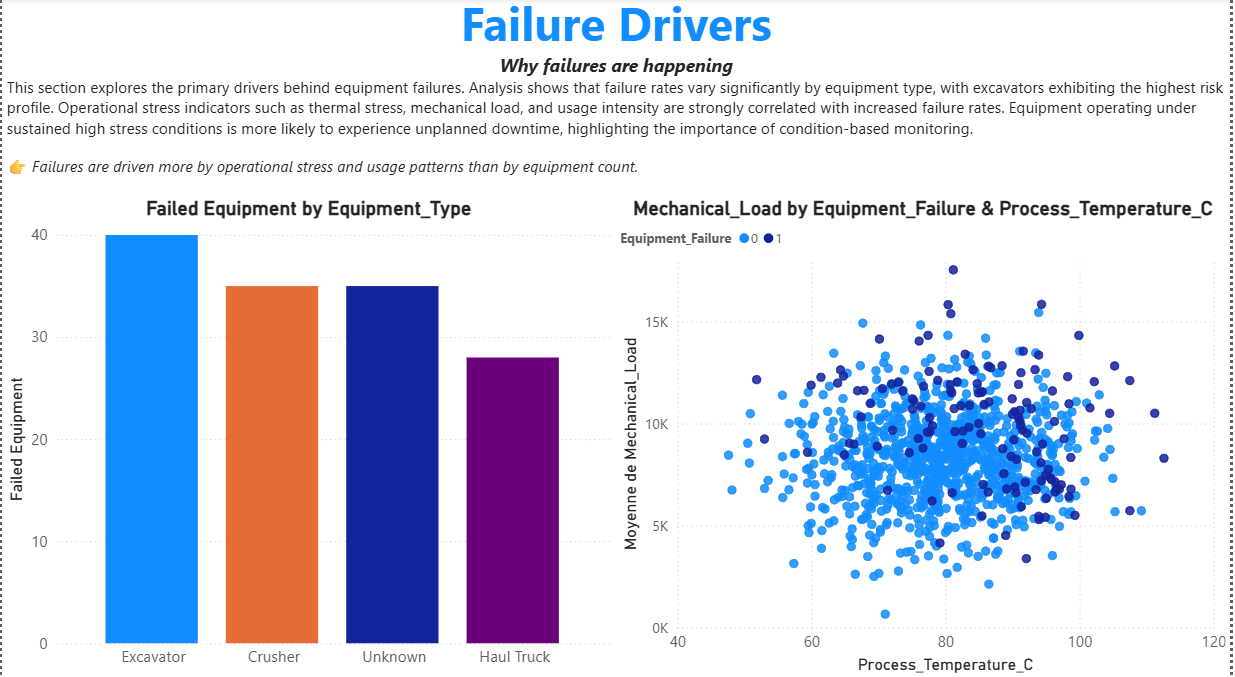

What the dashboard file says about the page in this screenshot:
{"tool":"powerbi","page":{"name":"Page 2","canvas":[1280,720],"ordinal":1},"visuals":[{"type":"scatterChart","title":"Mechanical_Load by Equipment_Failure & Process_Temperature_C","fields":{"Series":["Sheet1 (2).Equipment_Failure"],"Y":["Avg(Sheet1 (2).Mechanical_Load)"],"X":["Sheet1 (2).Process_Temperature_C"]},"box":[639.1,218.8,640.6,501.6],"z":0},{"type":"columnChart","title":"Failed Equipment by Equipment_Type","fields":{"Category":["Sheet1 (2).Equipment_Type"],"Y":["Sheet1 (2).Failed Equipment"],"Series":["Sheet1 (2).Equipment_Type"]},"box":[0,218.8,639.1,501.6],"z":1000},{"type":"textbox","box":[0,0,1279.7,218.8],"z":2000}]}

Visuals, with their boxes in screenshot pixels (x1, y1, x2, y2), scaled from the page's 1280x720 canvas onto the 1235x677 screenshot:
"Mechanical_Load by Equipment_Failure & Process_Temperature_C" scatterChart: l=617, t=206, r=1234, b=676
"Failed Equipment by Equipment_Type" columnChart: l=0, t=206, r=617, b=676
textbox: l=0, t=0, r=1234, b=206
